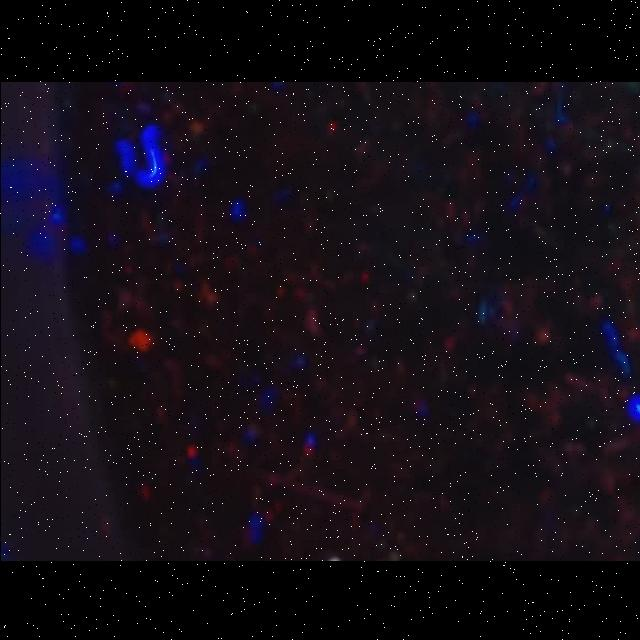microbeads: (327, 555, 339, 559)
